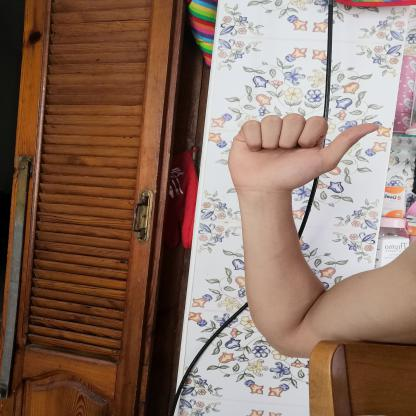DAD: (216, 107, 392, 202)
